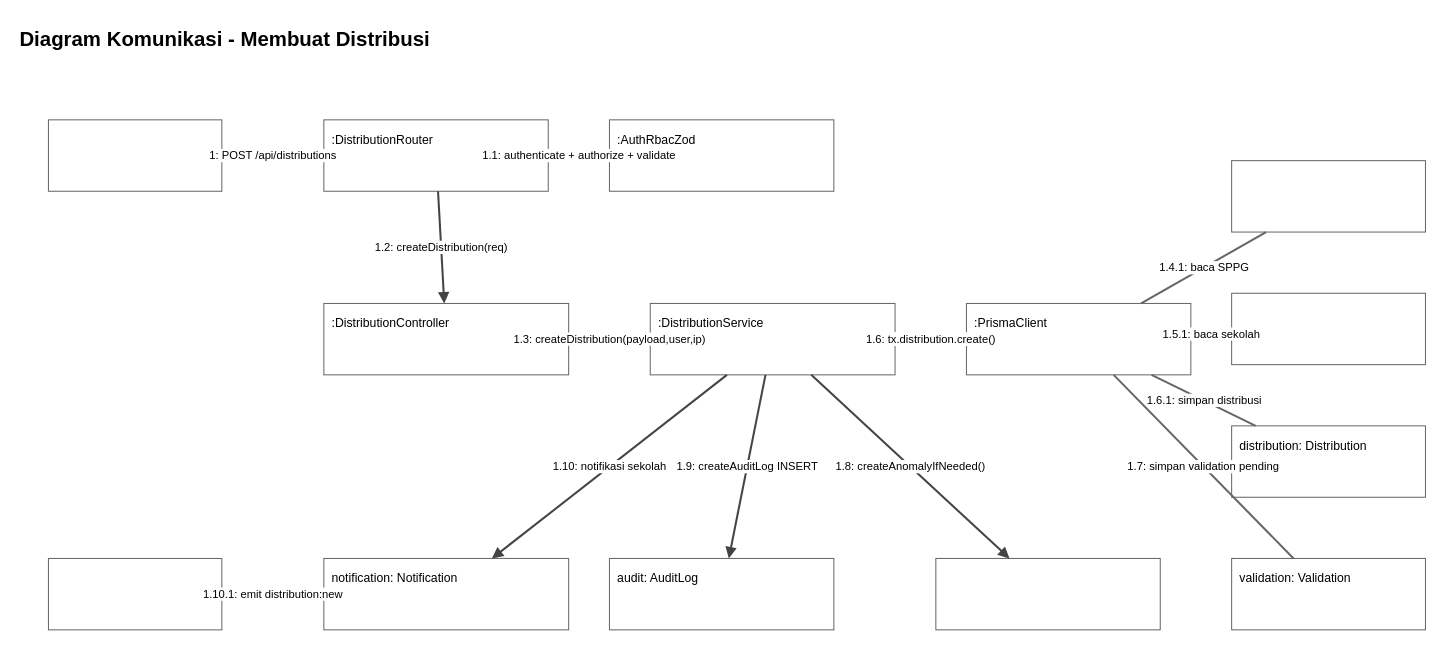
Some shapes in this 1443 by 648 pixel diagram are drawn without their labels. The centre of each missing label's shape, as x and y in pixels:
anomaly: AnomalyLog: the point at 1047,593
school: School: the point at 1328,328
Socket.IO: the point at 134,593
SPPG / Admin: the point at 134,155
sppg: Sppg: the point at 1328,196
